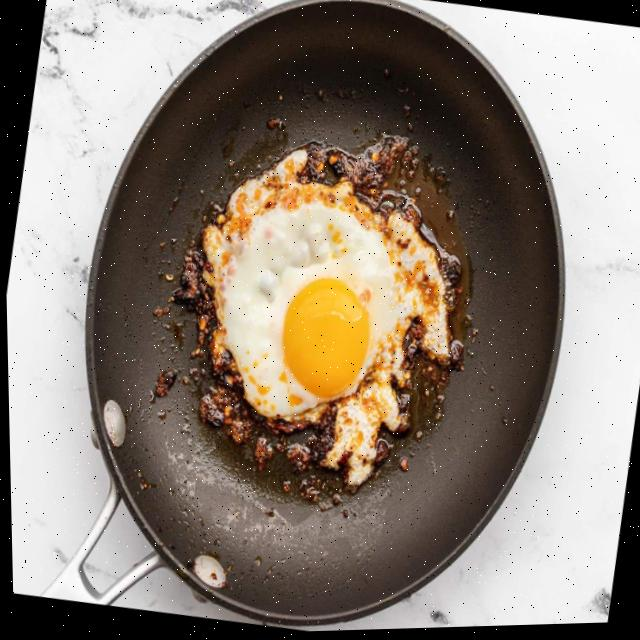Egg: (168, 138, 469, 492)
